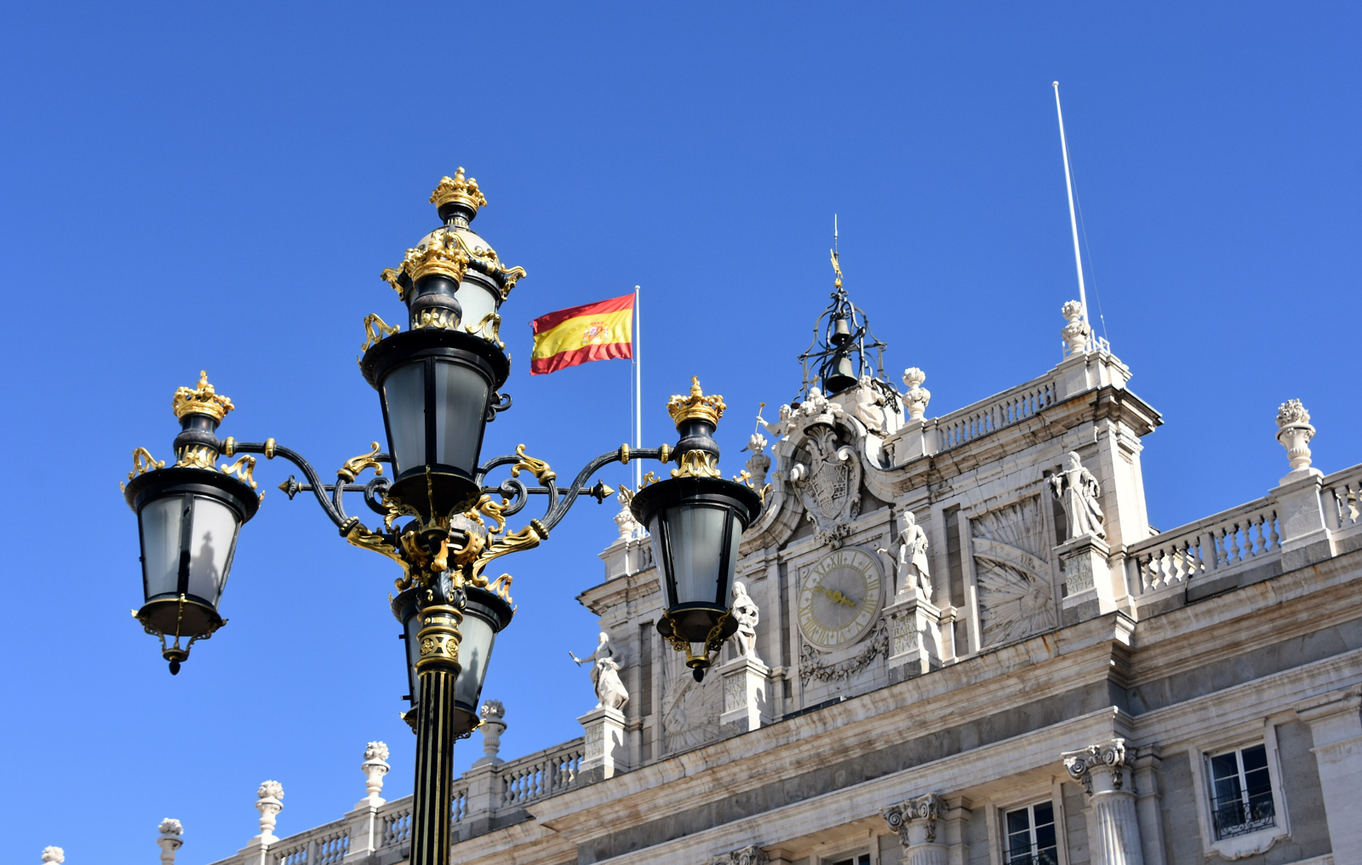fachada: (83, 293, 1362, 865)
poste: (132, 155, 753, 865)
